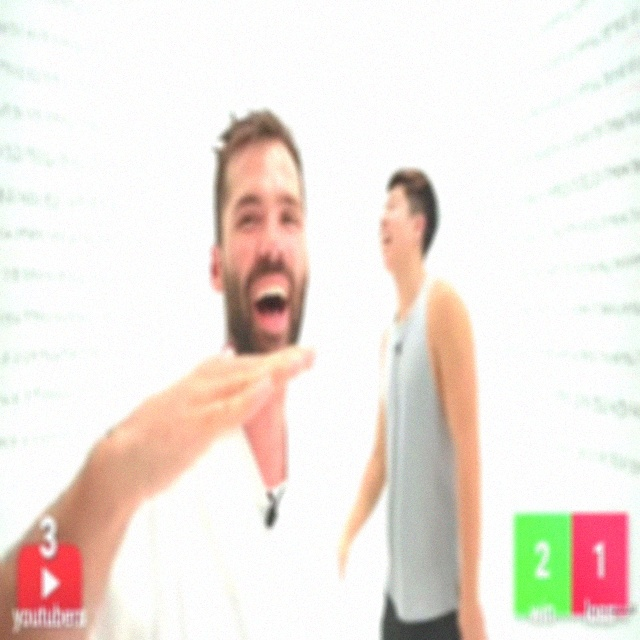Paper: (107, 341, 321, 491)
